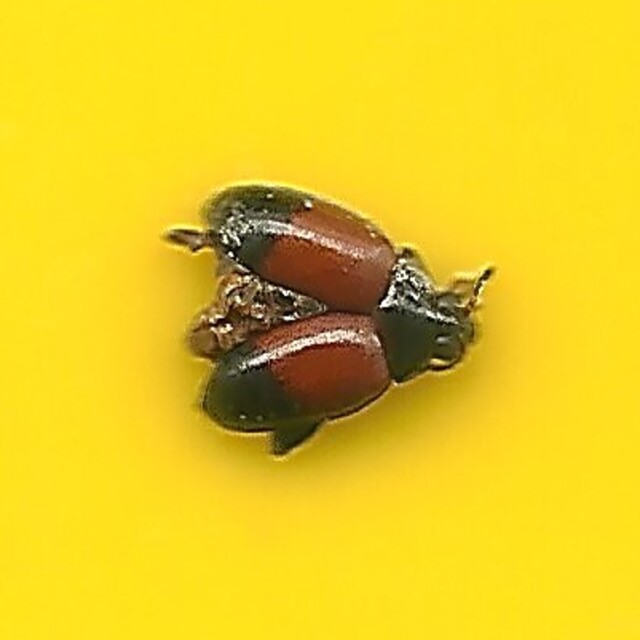Coleoptera: (160, 185, 480, 455)
